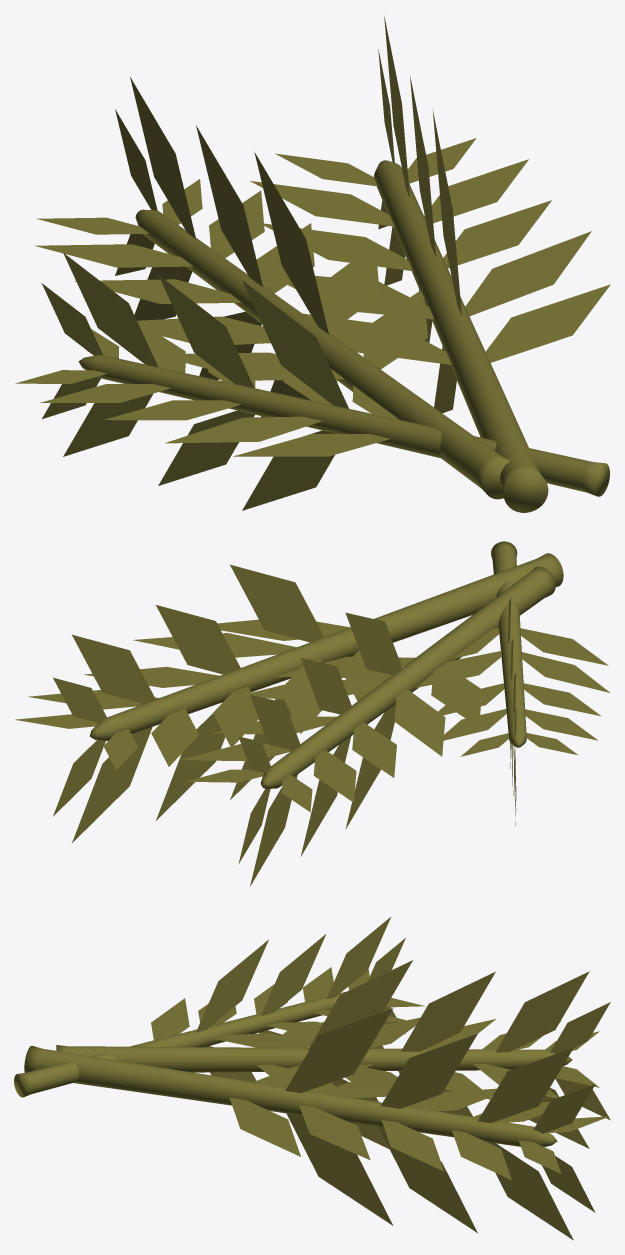
Rendered from tea_plant.fbx.
3 views of the same model, one above another, from view 1: azimuth 30°, elevation 25°; view 2: azimuth 150°, elevation 25°; view 3: azimuth 270°, elevation 25° (orthographic). The views are drawn at different scales.
Visible parts, largest first — view 1: Plane.002; view 2: Plane.002; view 3: Plane.002.
Boxes of the visible parts, <box> form: Plane.002: <box>15,16,610,512</box>; Plane.002: <box>15,541,609,886</box>; Plane.002: <box>14,917,610,1240</box>.
Size of the model in its own units: 98.67 by 47.04 by 117.
